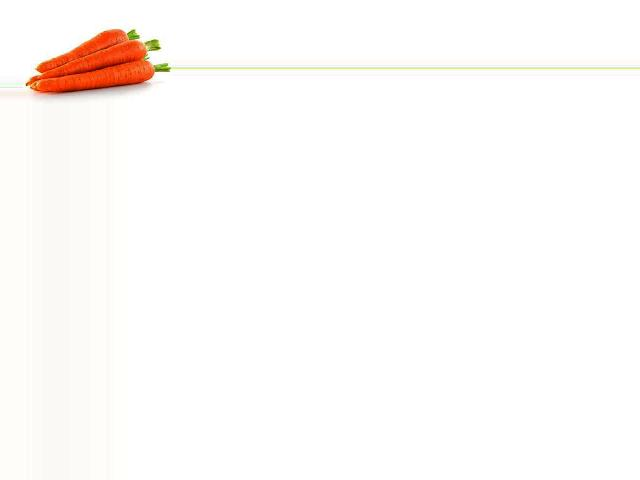carrot: (30, 63, 162, 91)
